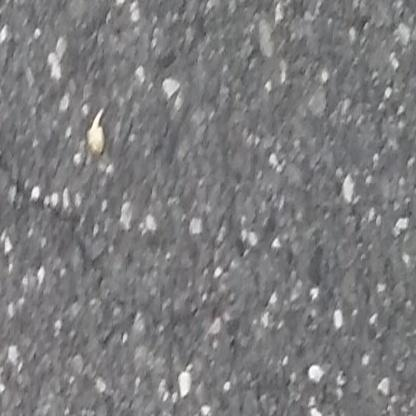Cracks: (0, 120, 90, 237)
